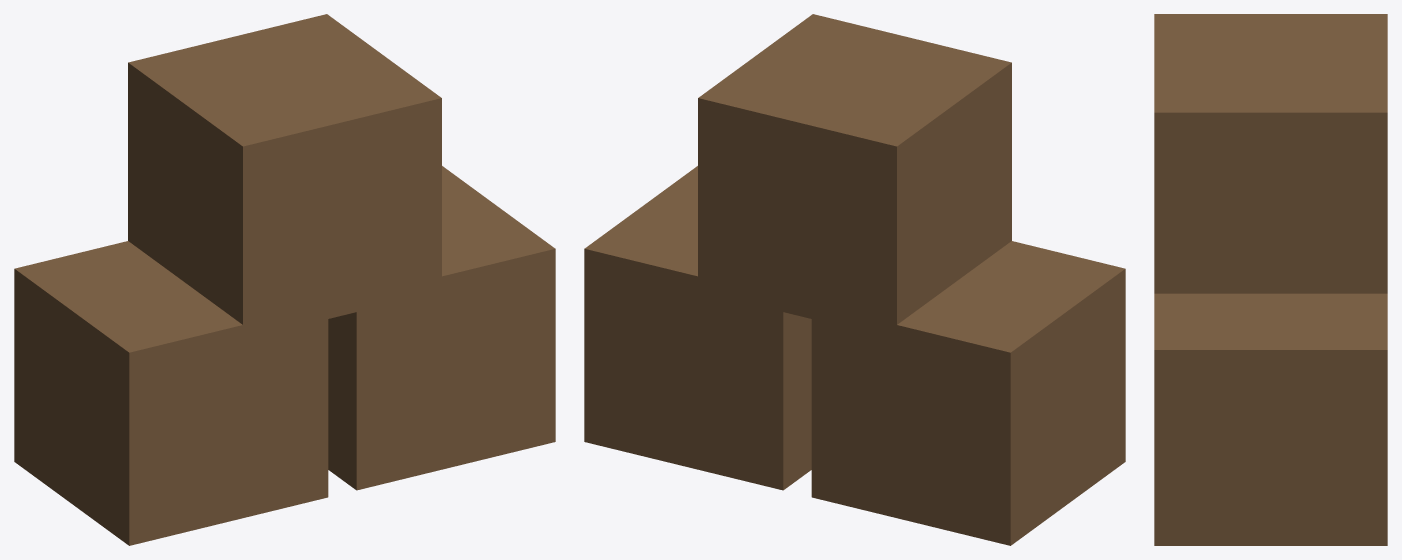
The model's file is wood_crates_stack.glb.
3 views of the same model, side by side, from view 1: azimuth 30°, elevation 25°; view 2: azimuth 150°, elevation 25°; view 3: azimuth 270°, elevation 25° (orthographic).
Visible parts, largest first — view 1: WoodCratesStack; view 2: WoodCratesStack; view 3: WoodCratesStack.
Boxes of the visible parts, left/top/right/bottom form: WoodCratesStack: left=14, top=14, right=555, bottom=545; WoodCratesStack: left=584, top=14, right=1125, bottom=545; WoodCratesStack: left=1154, top=14, right=1387, bottom=545.
Bounding box in the file's own units: 1.5 × 1.25 × 0.7.
